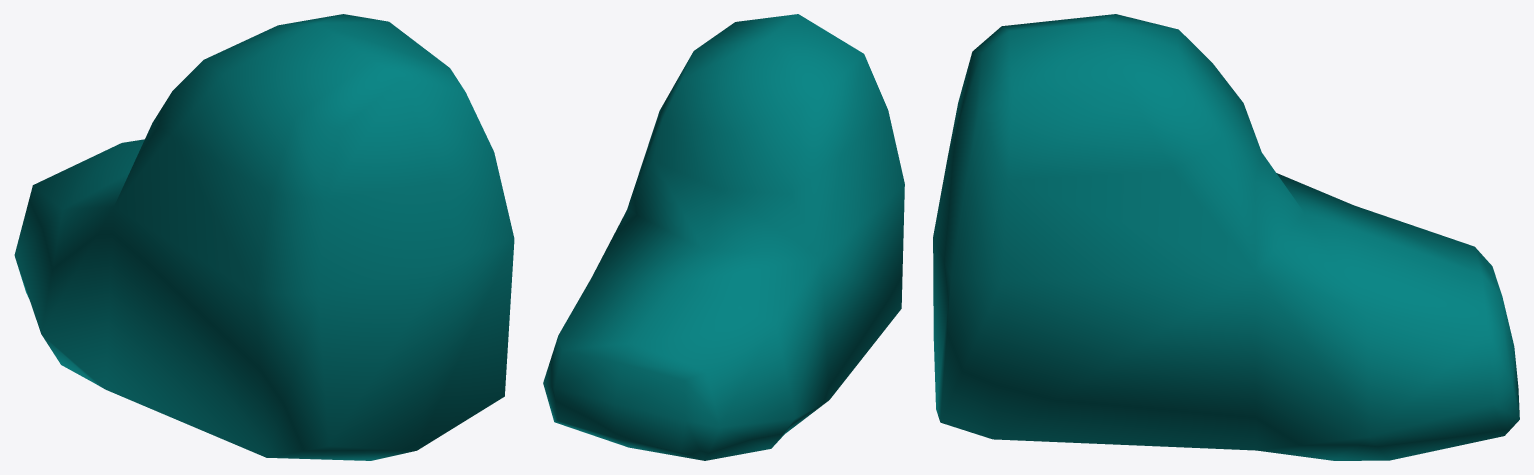
The model's file is Rock06.fbx.
The picture shows the model from 3 angles, left to right: view 1: azimuth 30°, elevation 25°; view 2: azimuth 150°, elevation 25°; view 3: azimuth 270°, elevation 25°; orthographic projection. The views are drawn at different scales.
Visible parts, largest first — view 1: Low_Rock06; view 2: Low_Rock06; view 3: Low_Rock06.
Part boxes in pixels (x1,y1,x2,y2): Low_Rock06: (14,14,514,460); Low_Rock06: (543,14,904,460); Low_Rock06: (933,14,1519,460).
Bounding box in the file's own units: 297 × 407 × 526.
